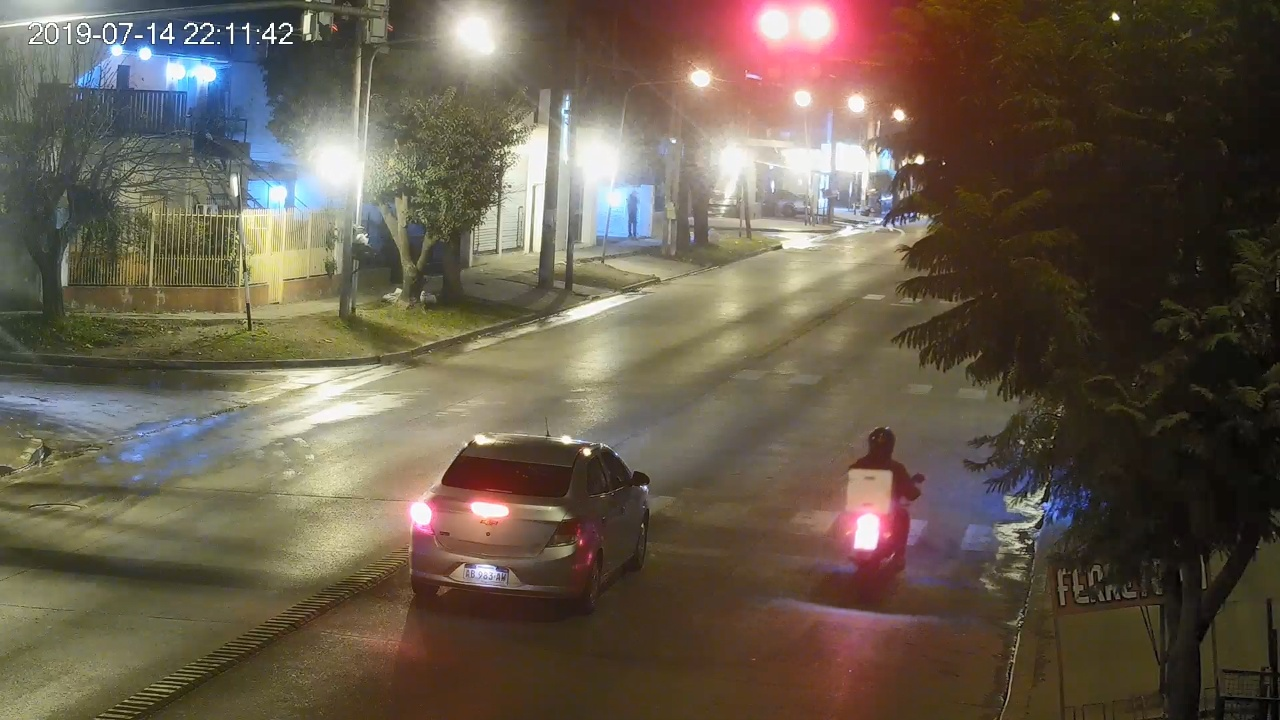car: (409, 431, 651, 613)
motorcycle: (844, 472, 925, 584)
traffic light: (764, 10, 786, 78), (803, 10, 825, 78)
